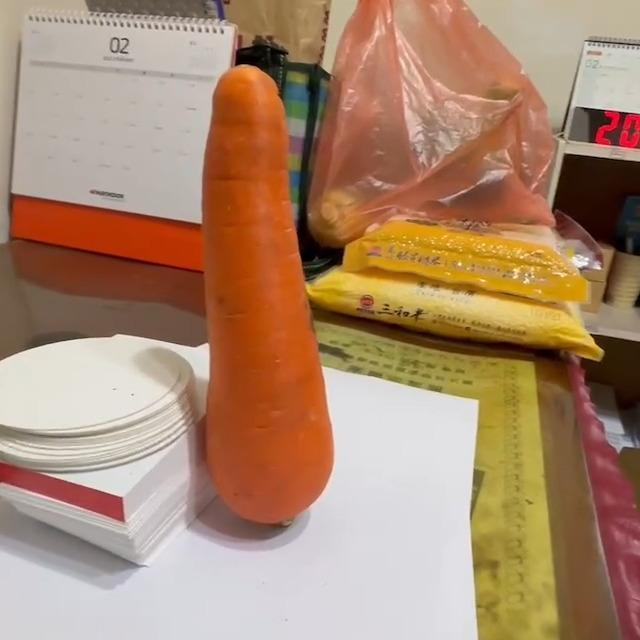carrot: (201, 62, 338, 528)
